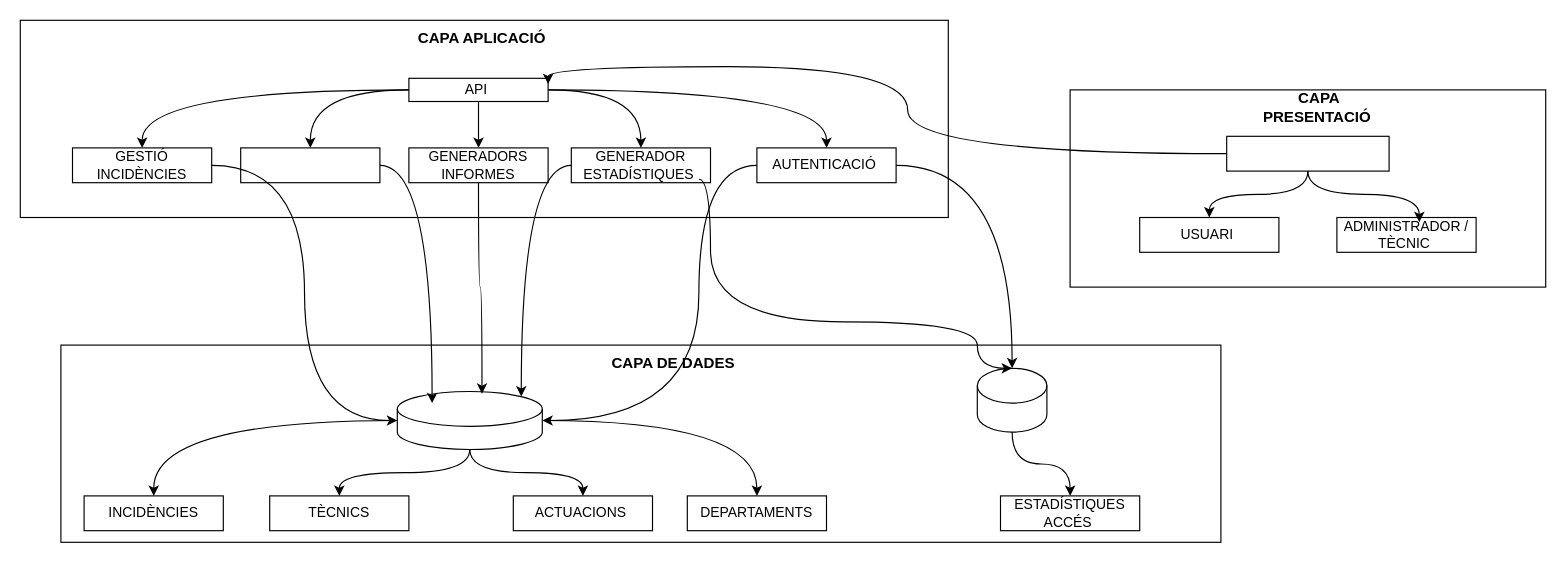
Image size: 1566x563. Some labels were removed from this diagram. The centre of each missing label's shape, as x and y in pixels:
"Base de dades" goes at pixel 469 419.
"GESTIÓ ACTUACIONS" goes at pixel 310 165.
"INRTERFICIE USUARI" goes at pixel 1307 153.
"mongo bd" goes at pixel 1011 399.
